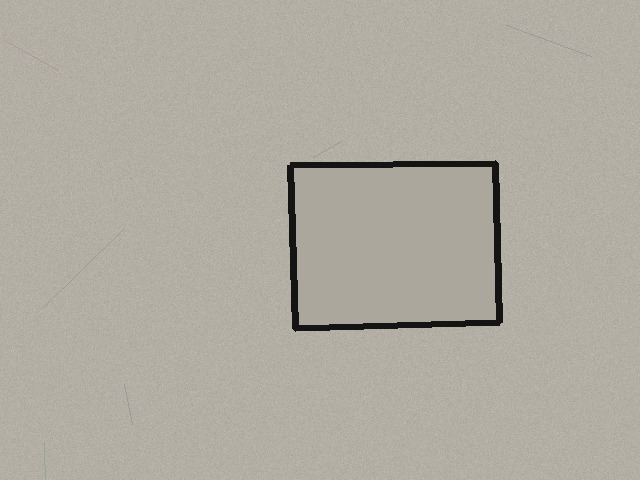parking_area: (290, 163, 499, 328)
